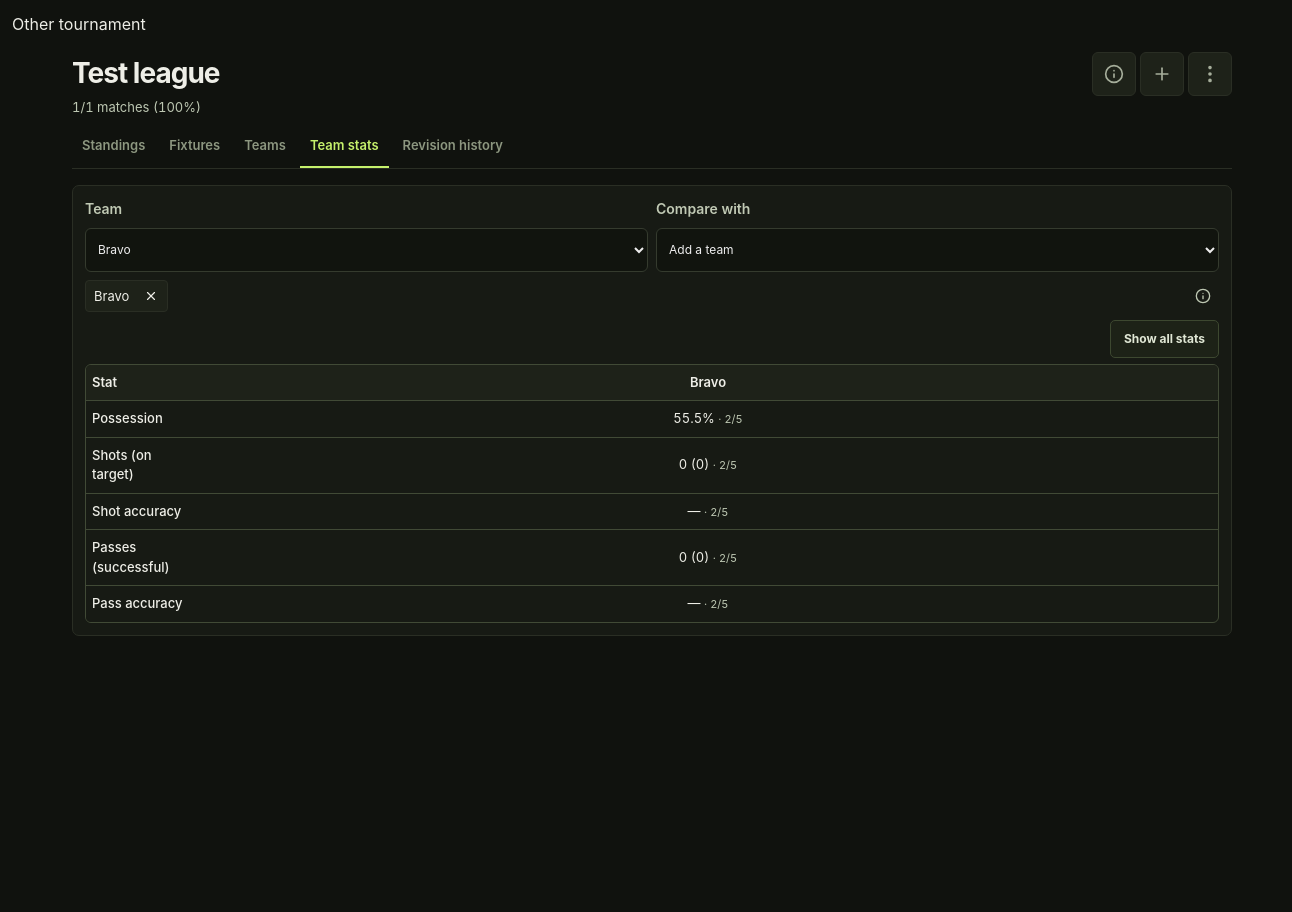
Test: single team defaults alphabetically to recorded data and preserves zero, units and coverage
Expected: the dropdown labelled "Team" shows "Bravo", [85,228,648,272]
Expected: the row named "Possession 55.5% 2 recorded matches / 5 matches played" is shown, [86,401,1218,438]
Click the button "Show all stats". click: (1164, 339)
box: [1110,320,1219,358]
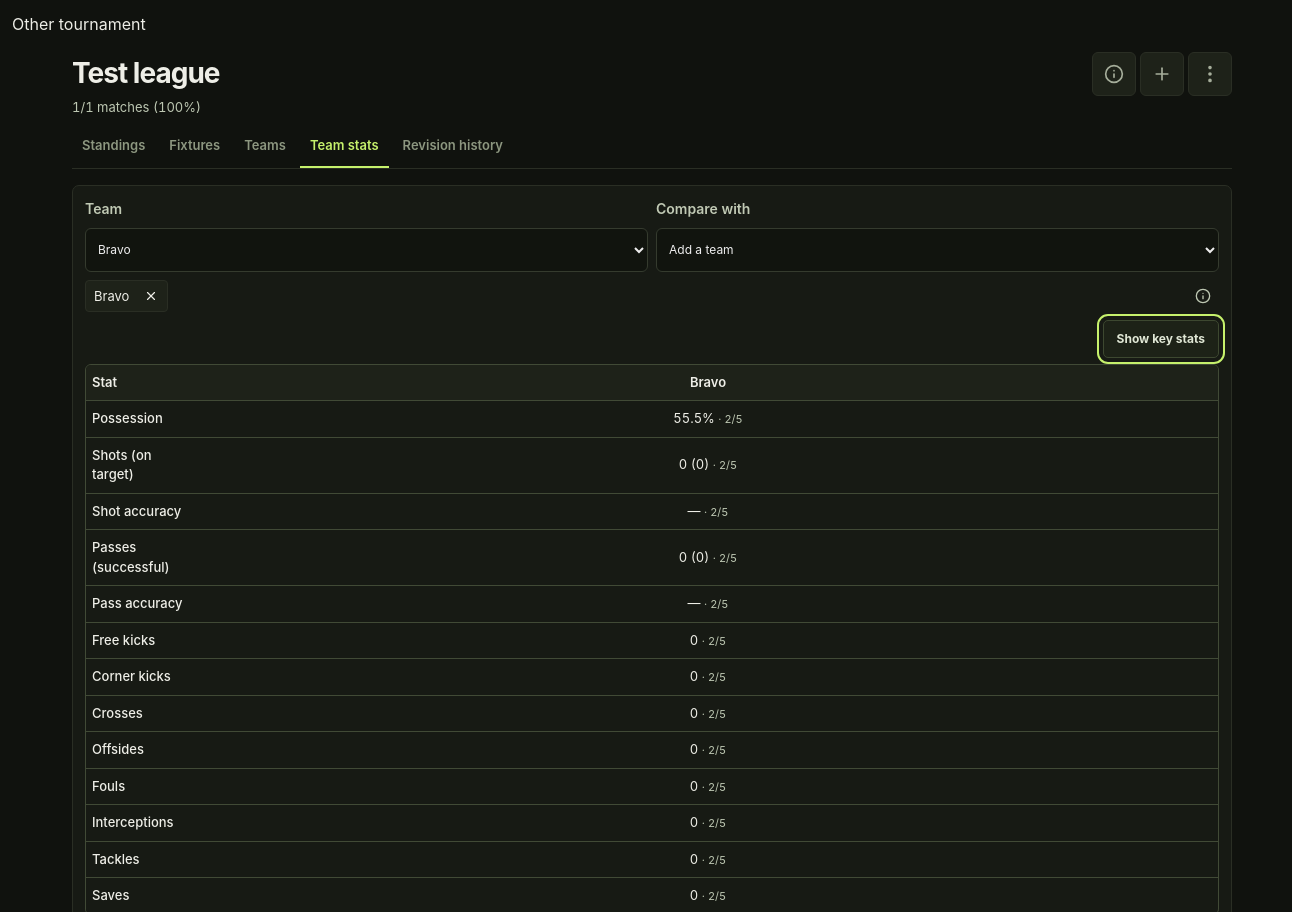
Expected: the number of rows is 14
Click the button "Show key stats". click: (1161, 339)
box: [1103,320,1219,358]
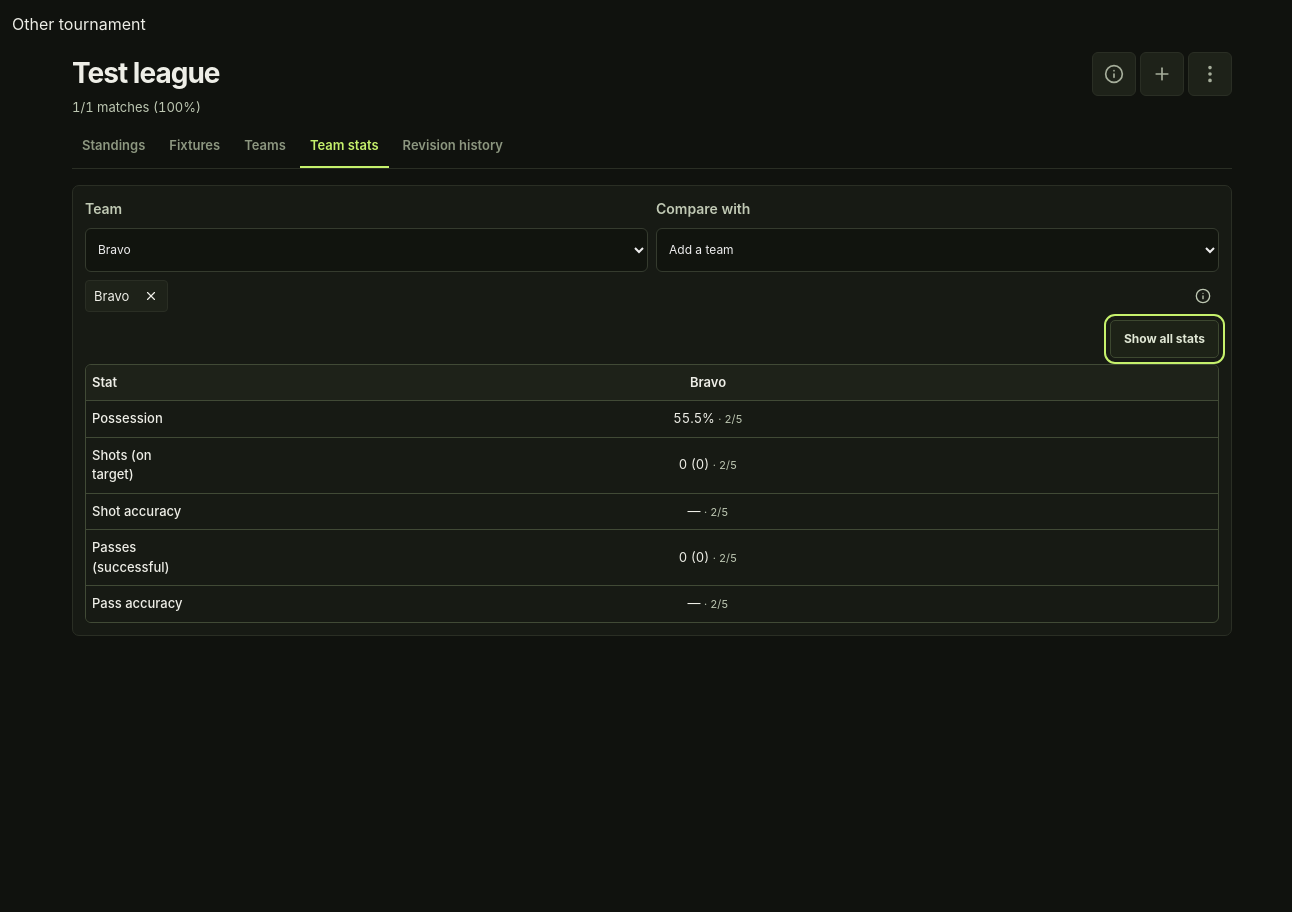
Expected: the number of rows is 6, [86,365,1218,401]; [86,401,1218,438]; [86,438,1218,494]; [86,494,1218,530]; [86,530,1218,586]; [86,586,1218,622]
